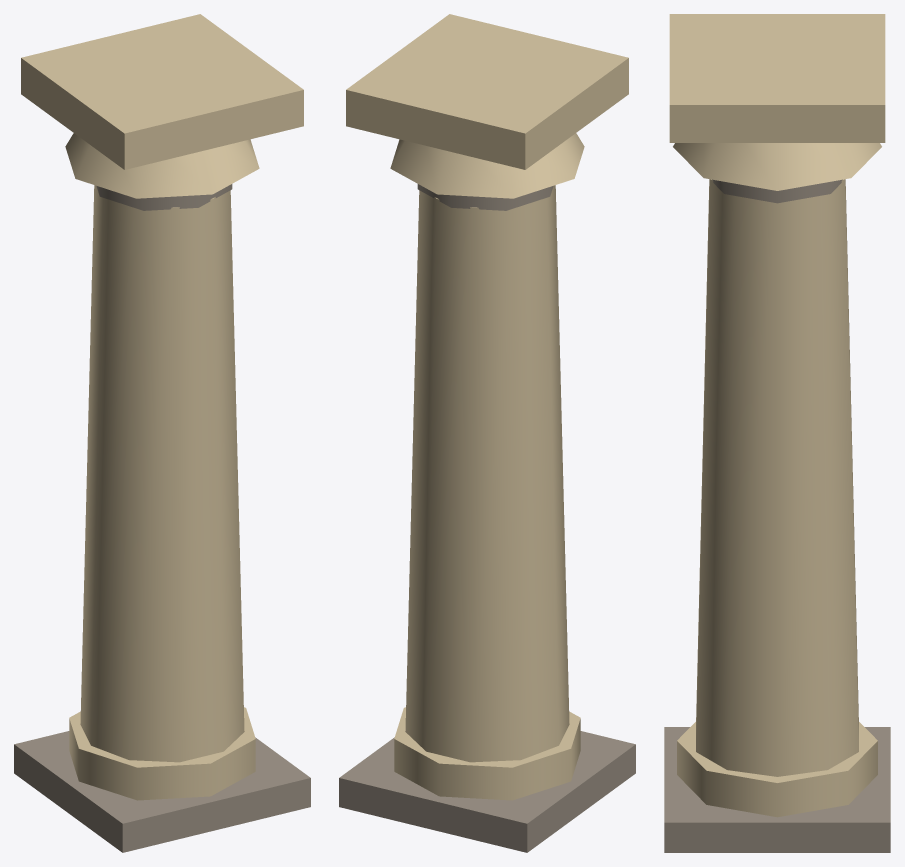
Rendered from column_doric_weathered_LOD2.glb.
The picture shows the model from 3 angles, left to right: view 1: azimuth 30°, elevation 25°; view 2: azimuth 150°, elevation 25°; view 3: azimuth 270°, elevation 25°; orthographic projection. The views are drawn at different scales.
Visible parts, largest first — view 1: column_doric_weathered_LOD2; view 2: column_doric_weathered_LOD2; view 3: column_doric_weathered_LOD2.
Boxes of the visible parts, x1,y1,x2,y2 form: column_doric_weathered_LOD2: [14, 14, 310, 852]; column_doric_weathered_LOD2: [339, 14, 635, 852]; column_doric_weathered_LOD2: [664, 14, 890, 852].
Size of the model in its own units: 1.08 by 3.93 by 1.08.
